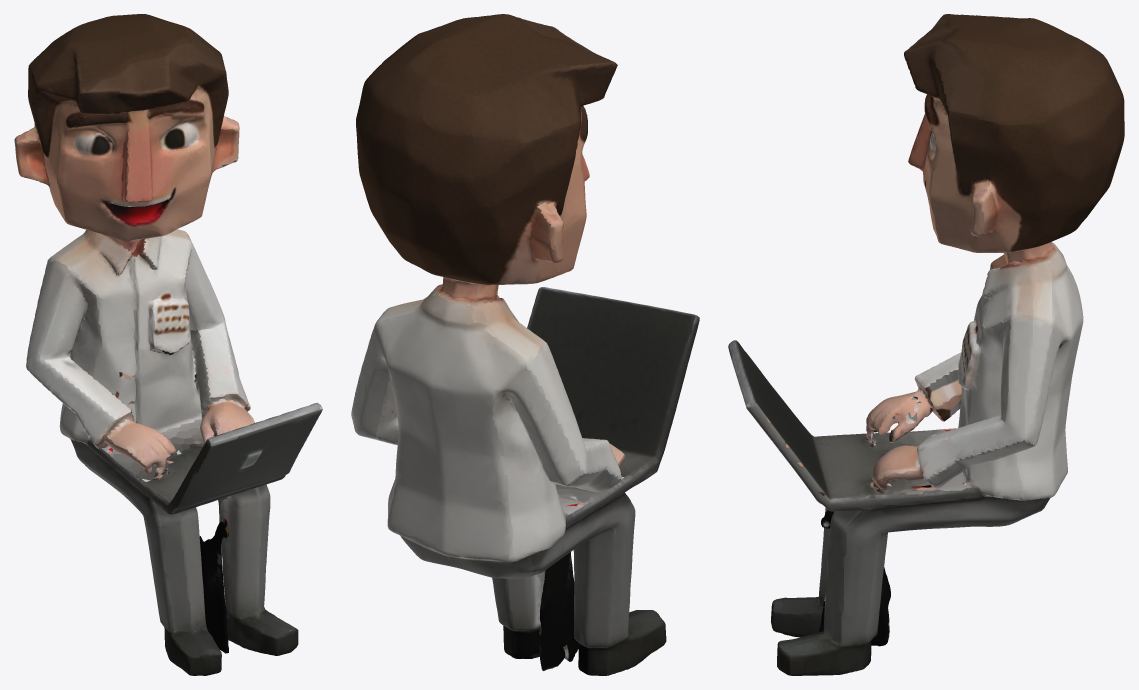
The model's file is char_seated-v1.glb.
The picture shows the model from 3 angles, left to right: view 1: azimuth 30°, elevation 25°; view 2: azimuth 150°, elevation 25°; view 3: azimuth 270°, elevation 25°; orthographic projection. The views are drawn at different scales.
Parts seen in each view (by area): view 1: tmpbdz840yb.ply; view 2: tmpbdz840yb.ply; view 3: tmpbdz840yb.ply.
Boxes of the visible parts, x1,y1,x2,y2 form: tmpbdz840yb.ply: (14, 14, 322, 675); tmpbdz840yb.ply: (351, 14, 699, 675); tmpbdz840yb.ply: (728, 14, 1124, 675).
Size of the model in its own units: 0.7094 by 1.96 by 1.15.
Materials: 1 (1 with a texture image).
